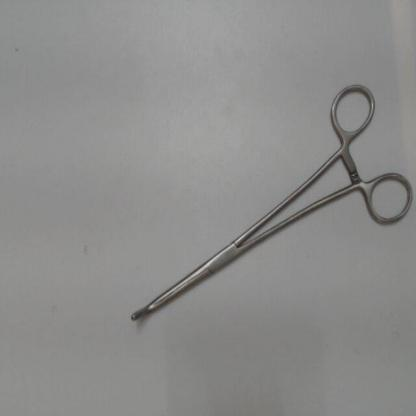Lahey Forceps: (121, 69, 414, 334)
